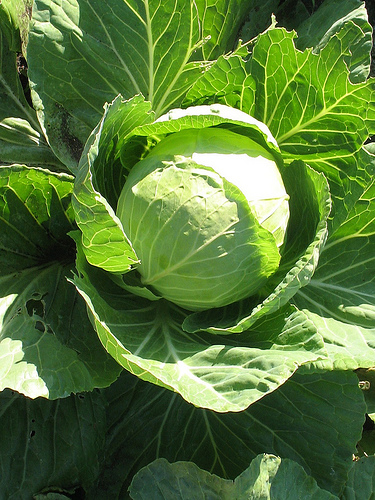cabbage: (112, 125, 288, 308)
